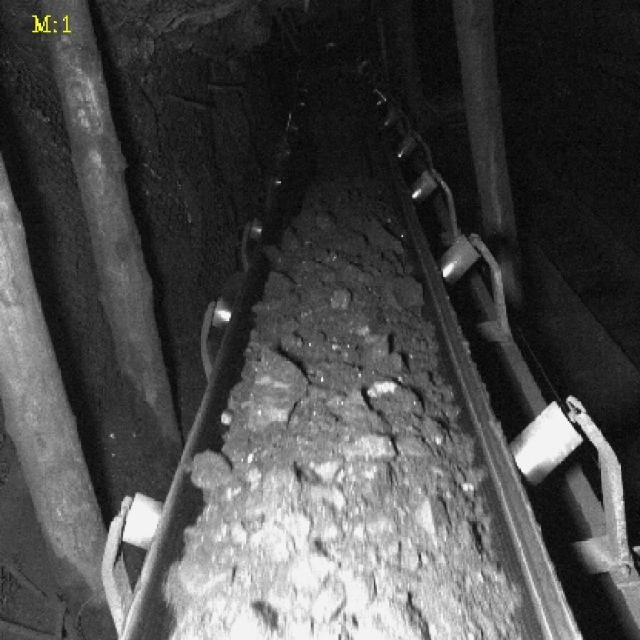large_sized_coal: (248, 349, 303, 428), (369, 376, 423, 418), (343, 428, 399, 463), (189, 450, 226, 492)
